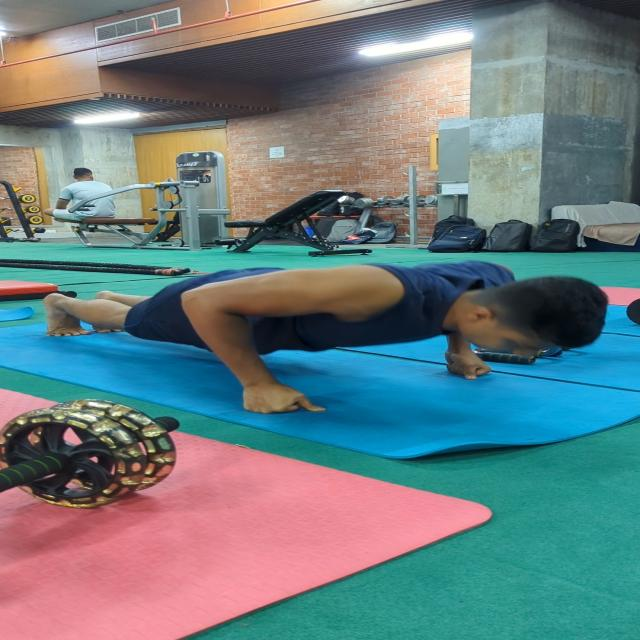Normal_PushUps: (39, 248, 614, 432)
